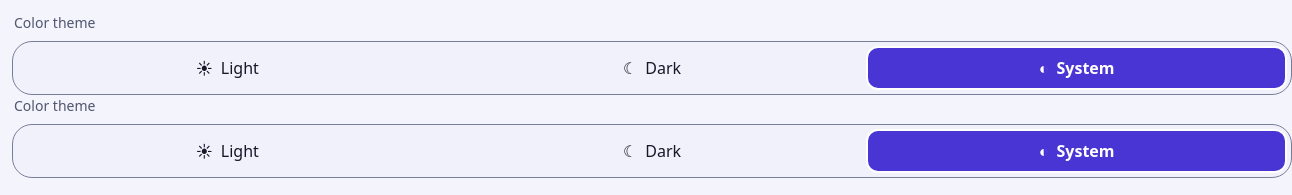
Test: ThemeToggle › keeps separate instances in independent native radio groups
This screenshot has width=1292, height=195.
Click the 1st radio button labelled "Light" at (227, 68), box [196,57,259,79]
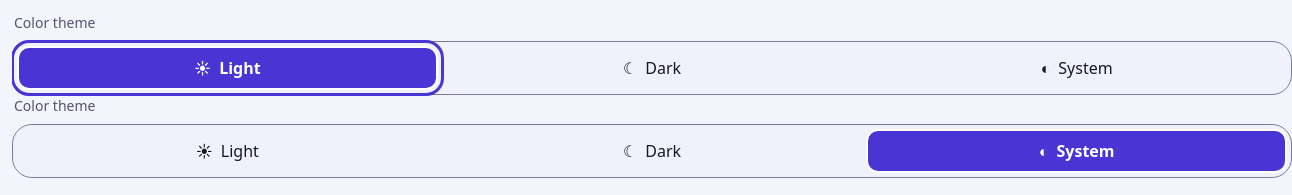
Expected: the 2nd radio button labelled "System" is checked, [866,129,1287,173]
Expected: the 1st radio button labelled "Light" is checked, [17,46,438,90]
